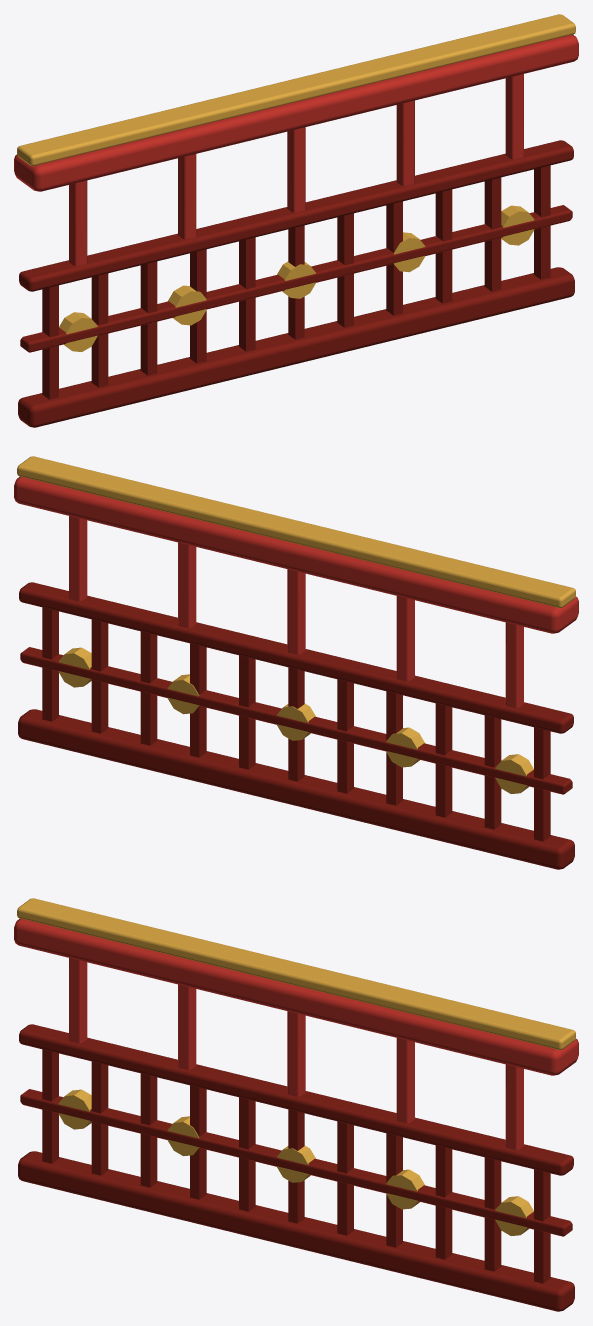
Rendered from rt_rail_lacquer.glb.
The picture shows the model from 3 angles, top to bottom: view 1: azimuth 30°, elevation 25°; view 2: azimuth 150°, elevation 25°; view 3: azimuth 330°, elevation 25°; orthographic projection.
Visible parts, largest first — view 1: rt_rail_lacquer_body; view 2: rt_rail_lacquer_body; view 3: rt_rail_lacquer_body.
Part boxes in pixels (x1=…): rt_rail_lacquer_body: x1=14, y1=14, x2=578, y2=427; rt_rail_lacquer_body: x1=14, y1=456, x2=578, y2=869; rt_rail_lacquer_body: x1=14, y1=898, x2=578, y2=1311.
Bounding box in the file's own units: 2 × 0.96 × 0.16.
